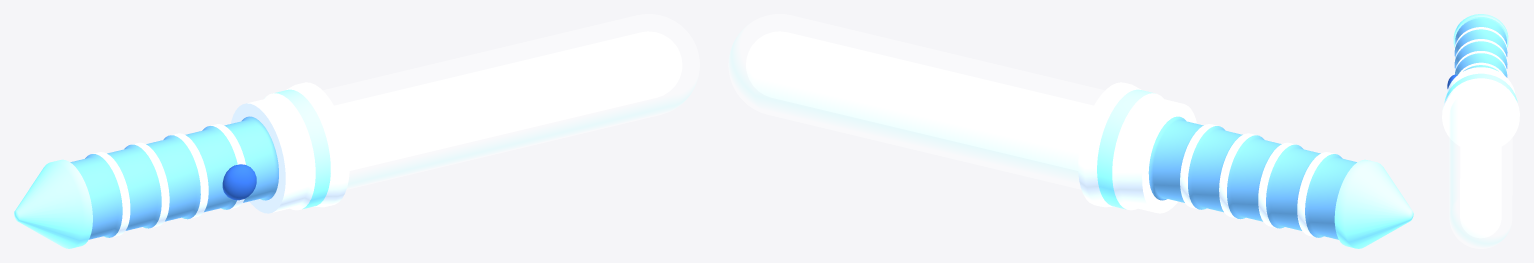
3 views of the same model, side by side, from view 1: azimuth 30°, elevation 25°; view 2: azimuth 150°, elevation 25°; view 3: azimuth 270°, elevation 25° (orthographic). The views are drawn at different scales.
Visible parts, largest first — view 1: SaberLong; view 2: SaberLong; view 3: SaberLong.
Boxes of the visible parts, x1,y1,x2,y2 form: SaberLong: (14,14,699,248); SaberLong: (728,14,1413,248); SaberLong: (1442,14,1519,248).
Bounding box in the file's own units: 5.88 × 0.9484 × 0.9481.
